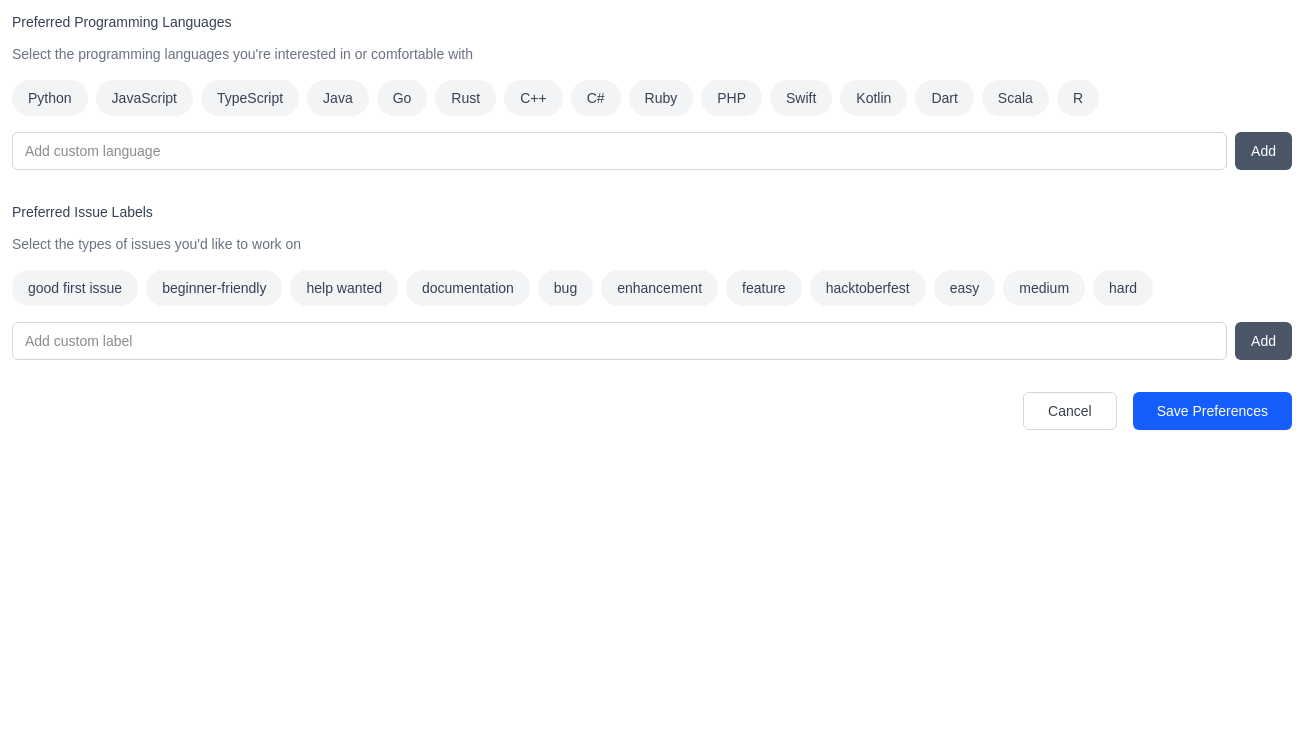
Test: PreferencesForm › toggles language selection
The image size is (1304, 732).
Click the button "Python". click: coordinates (50, 98)
box: 12,80 -> 88,116
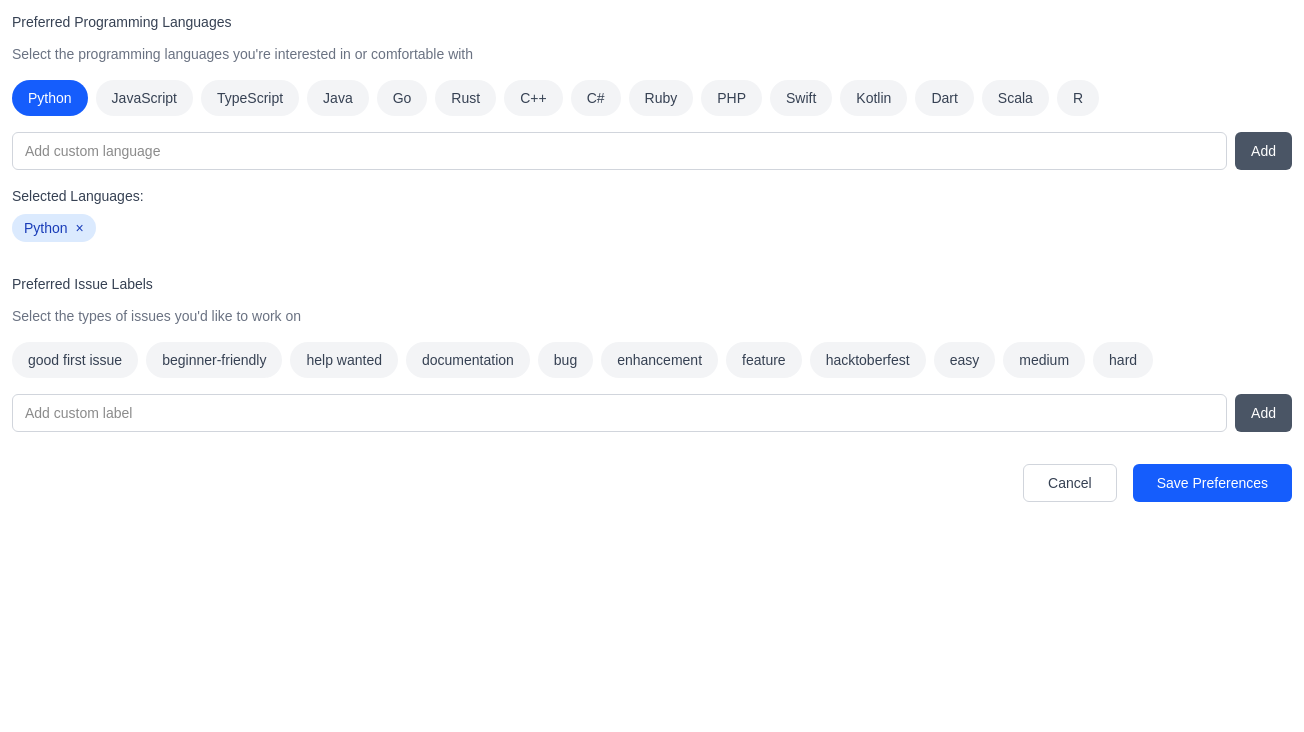
Result: the text "Selected Languages:" is shown at 12,188 -> 144,204
